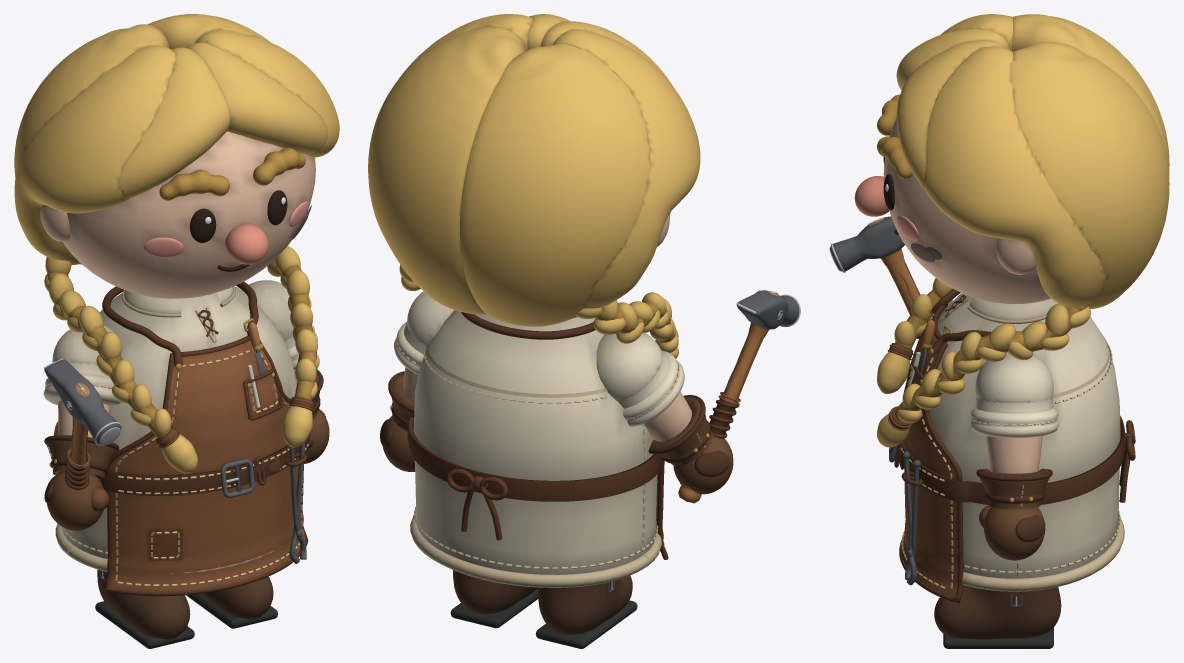
File: smith.glb
3 renders of one model, left to right at view 1: azimuth 30°, elevation 25°; view 2: azimuth 150°, elevation 25°; view 3: azimuth 270°, elevation 25°, orthographic. The views are drawn at different scales.
Visible parts, largest first — view 1: head, body, arm_r, hammer, leg_r, arm_l, leg_l; view 2: head, body, arm_r, arm_l, leg_r, hammer, leg_l; view 3: head, body, arm_l, leg_l, hammer.
Boxes of the visible parts, x1,y1,x2,y2 form: head: [14, 14, 339, 473]; body: [54, 281, 310, 596]; arm_r: [43, 325, 121, 530]; hammer: [44, 358, 121, 531]; leg_r: [95, 569, 194, 648]; arm_l: [249, 280, 329, 463]; leg_l: [186, 576, 277, 628]; head: [368, 14, 700, 358]; body: [407, 310, 668, 587]; arm_r: [596, 333, 733, 494]; arm_l: [380, 291, 453, 471]; leg_r: [535, 575, 637, 648]; hammer: [678, 290, 800, 503]; leg_l: [450, 570, 538, 628]; head: [854, 14, 1169, 447]; body: [889, 289, 1135, 603]; arm_l: [970, 352, 1058, 560]; leg_l: [934, 585, 1061, 648]; hammer: [829, 216, 920, 338].
Bounding box in the file's own units: 0.8584 × 1.45 × 0.7667.
